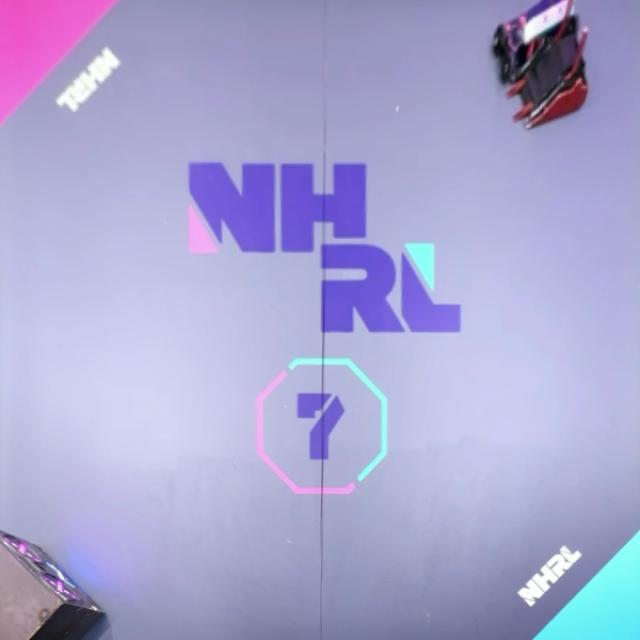housebot: (0, 529, 107, 640)
robot: (507, 0, 588, 131), (491, 0, 578, 85)
